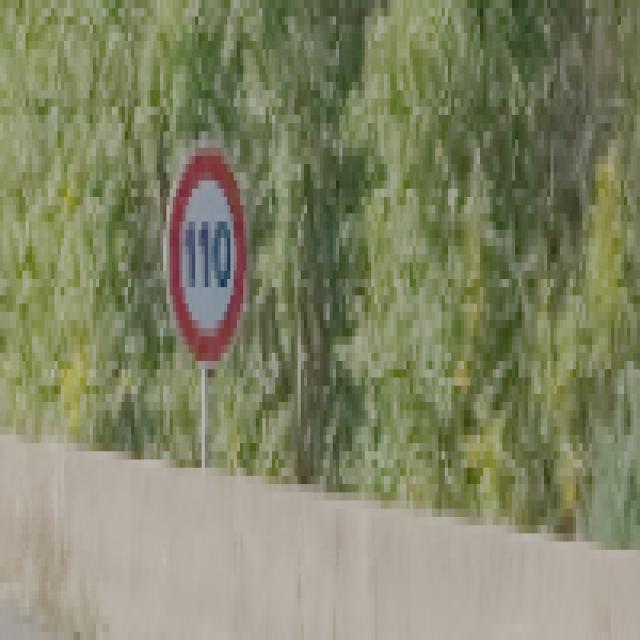speed_110: (165, 140, 250, 371)
